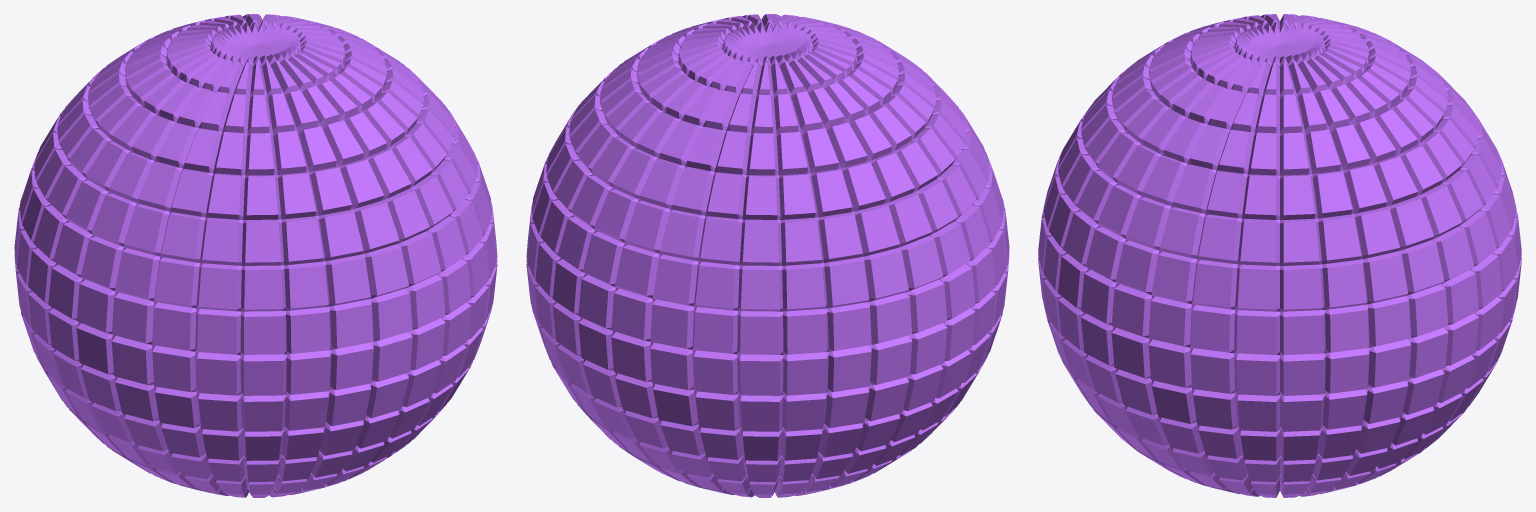
Rendered from discoBall.glb.
3 views of the same model, side by side, from view 1: azimuth 30°, elevation 25°; view 2: azimuth 150°, elevation 25°; view 3: azimuth 270°, elevation 25° (orthographic).
Parts seen in each view (by area): view 1: Sphere; view 2: Sphere; view 3: Sphere.
Part boxes in pixels (left/top/right/bottom): Sphere: left=14, top=14, right=497, bottom=497; Sphere: left=526, top=14, right=1009, bottom=497; Sphere: left=1038, top=14, right=1521, bottom=497.
Size of the model in its own units: 4.3 by 4.24 by 4.3.
